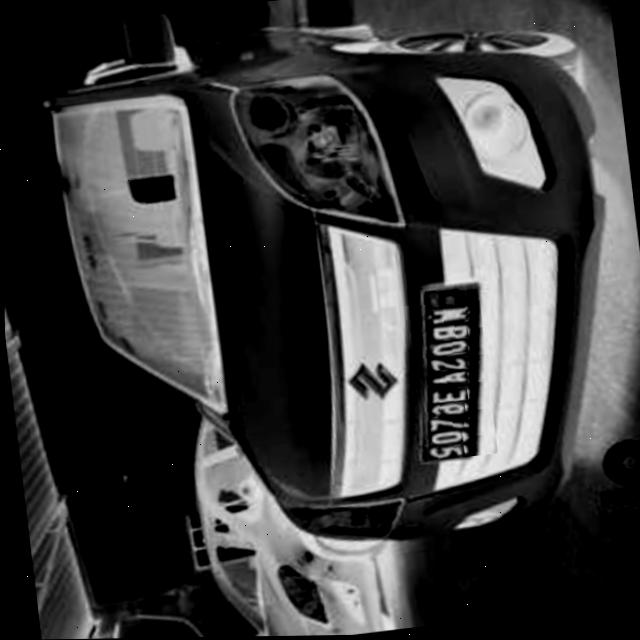0: (428, 340, 468, 358), (429, 430, 461, 446)
2: (429, 356, 467, 372)
5: (426, 443, 463, 461)
7: (427, 415, 463, 432)
9: (429, 401, 464, 417)
A: (430, 371, 467, 389)
B: (430, 323, 467, 341)
E: (428, 386, 466, 404)
IND: (423, 288, 459, 311)
Indian_registered: (422, 287, 478, 461)
W: (430, 306, 468, 326)
